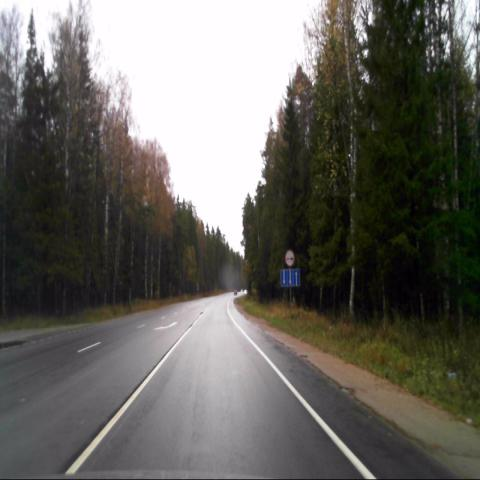5_15_7: (280, 269, 300, 286)
